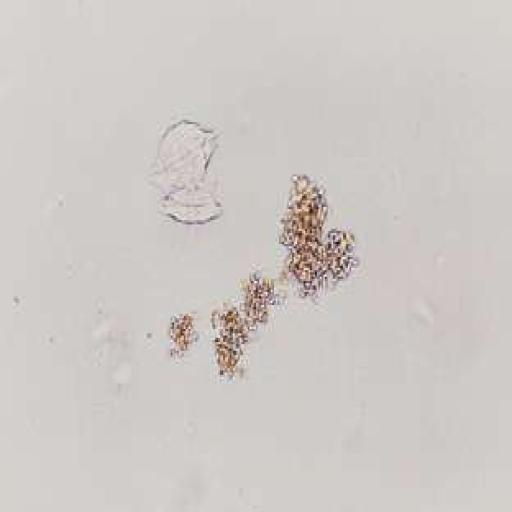BFU-E: (279, 176, 356, 294), (212, 305, 249, 375), (241, 272, 279, 329), (167, 312, 197, 355)
